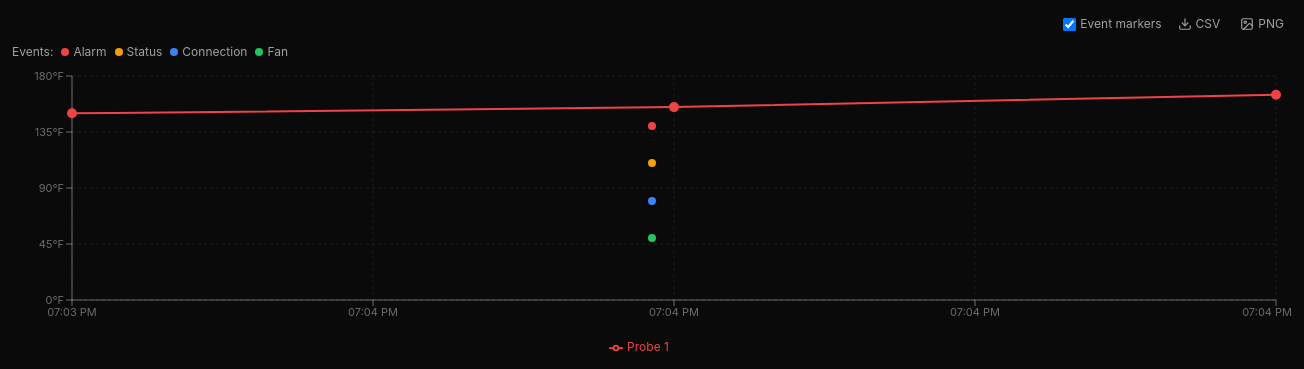
Test: TemperatureChart › renders event marker legend, toggle, supported markers, and accessible details
Expected: the text "Events:" is shown, [12, 44, 53, 60]
Expected: the checkbox named "Show event markers" is checked, [1063, 18, 1076, 30]
Focus the button with test id "event-marker-alarm" at coordinates (652, 126), box [646, 120, 658, 132]
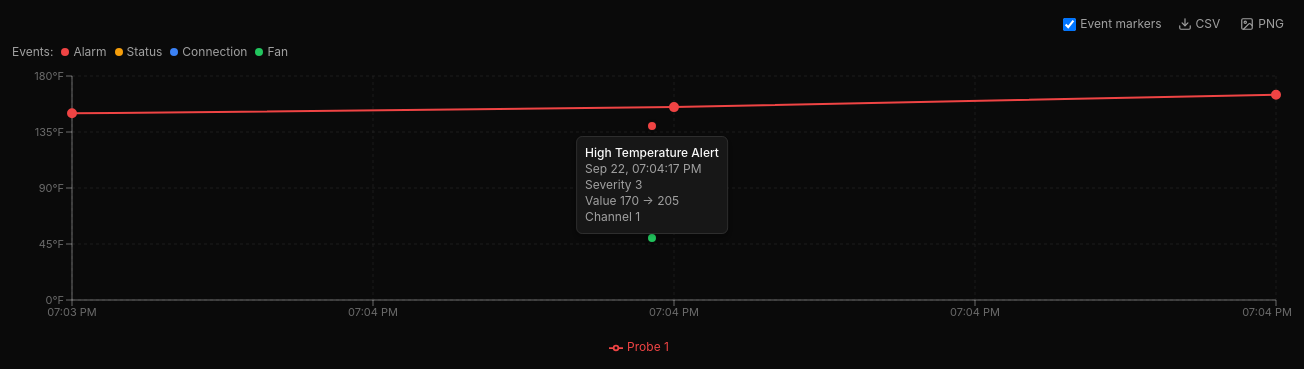
Expected: the tooltip shows "High Temperature Alert", [585, 145, 719, 160]
Expected: the tooltip shows "Value 170 → 205", [576, 136, 728, 234]
Click the checkbox named "Show event markers" at coordinates (1070, 24), box [1063, 18, 1076, 30]
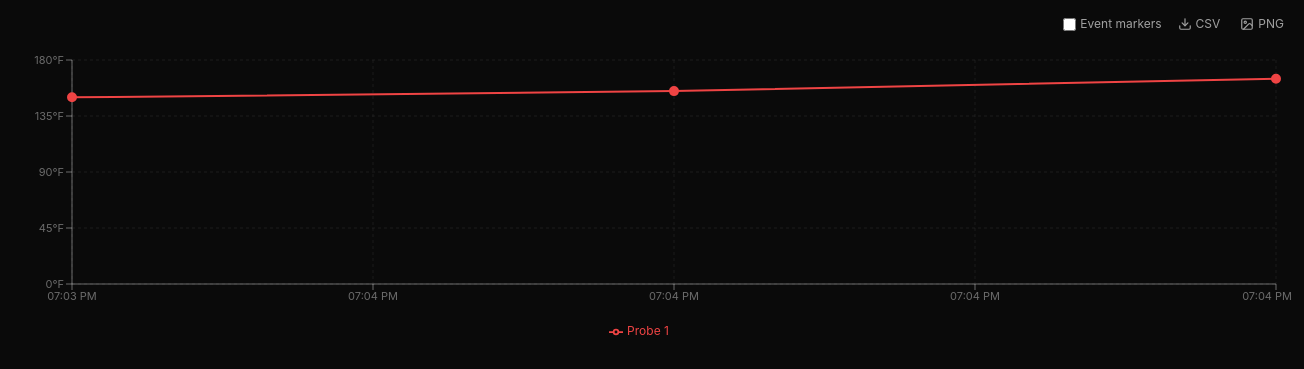
Expected: the element with test id "event-marker-layer" is gone
Expected: the text "Events:" is gone
